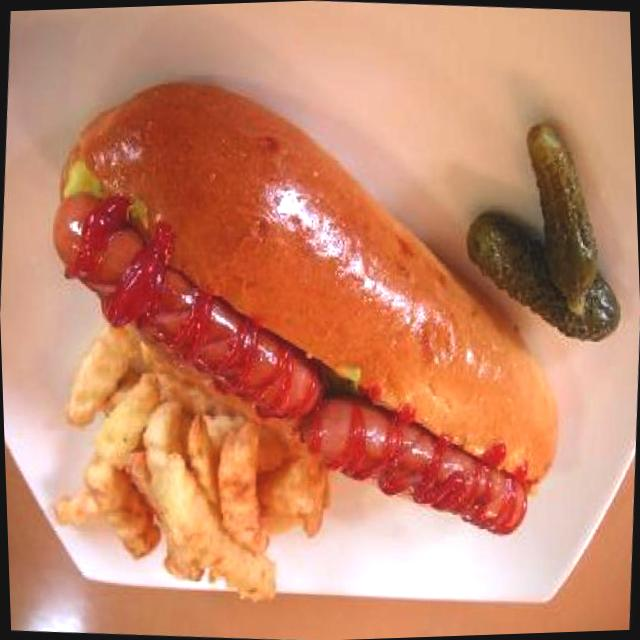Hot Dog: (26, 73, 598, 571)
